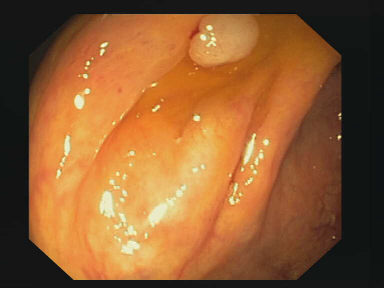polyp: (184, 14, 273, 69)
